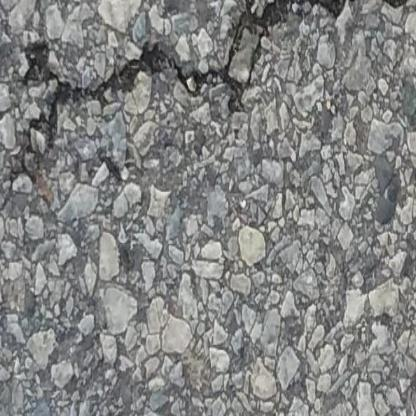Cracks: (16, 0, 416, 150)
